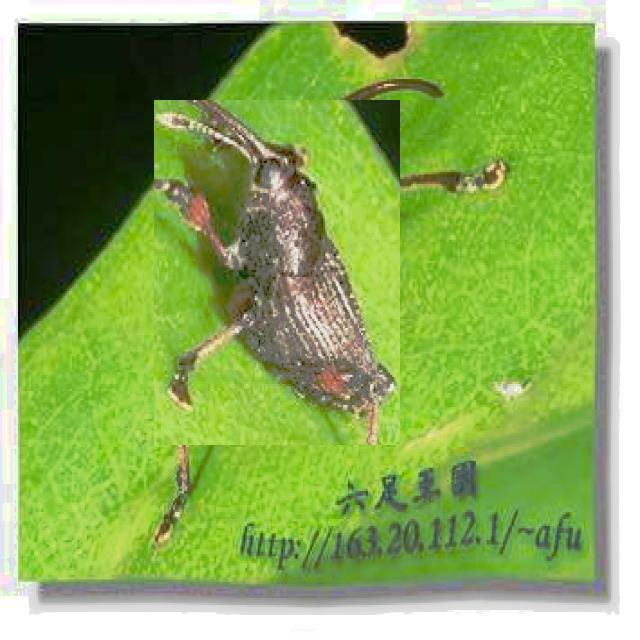rice-bug: (155, 100, 401, 445)
